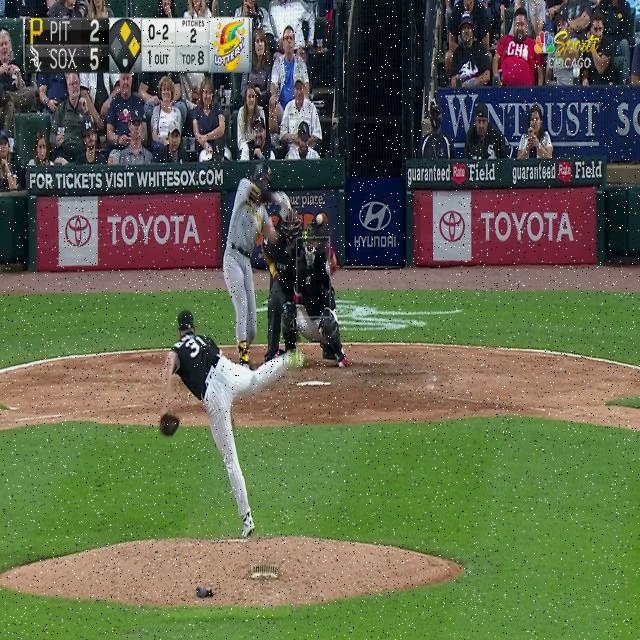baseball: (316, 213, 323, 224)
